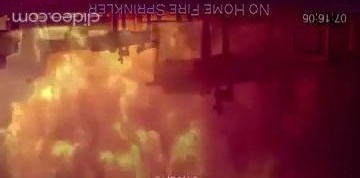fire: (0, 30, 320, 178)
